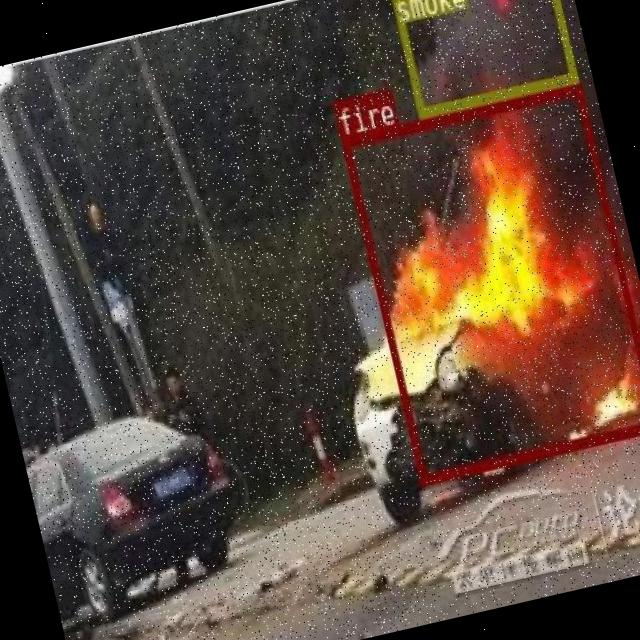smoke: (388, 0, 577, 115)
